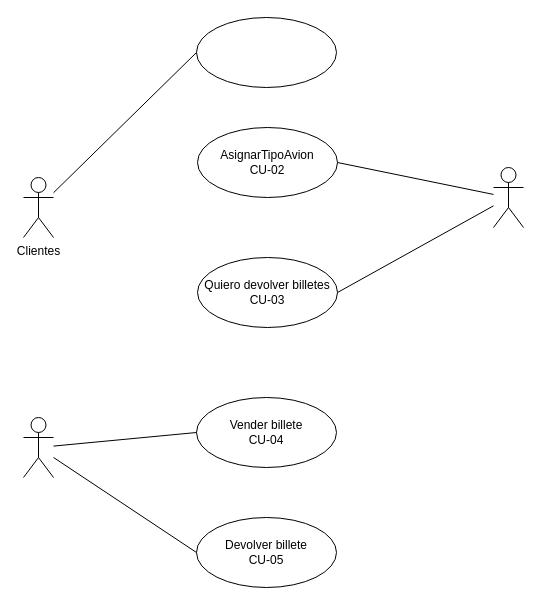
The diagram is 550 pixels wide and 605 high, and some of its shapes have lost their labels. The centre of each missing label's shape, as x and y in pixels:
Agencia de Viajes: [508,197]
Quiero comprar billetes CU-01: [266,52]
Vuelo: [38,447]
